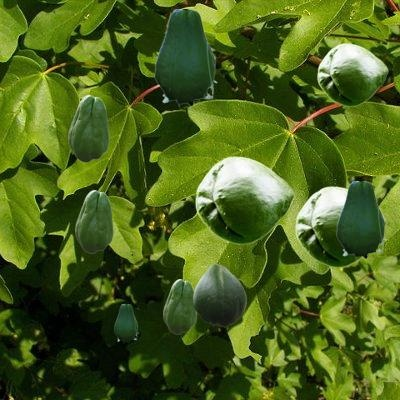sayote: (195, 156, 293, 243), (295, 186, 385, 266), (154, 9, 216, 107), (317, 43, 387, 105), (336, 181, 385, 259), (193, 264, 245, 326), (68, 95, 108, 161), (75, 190, 112, 252), (163, 279, 195, 333), (114, 304, 137, 342)
